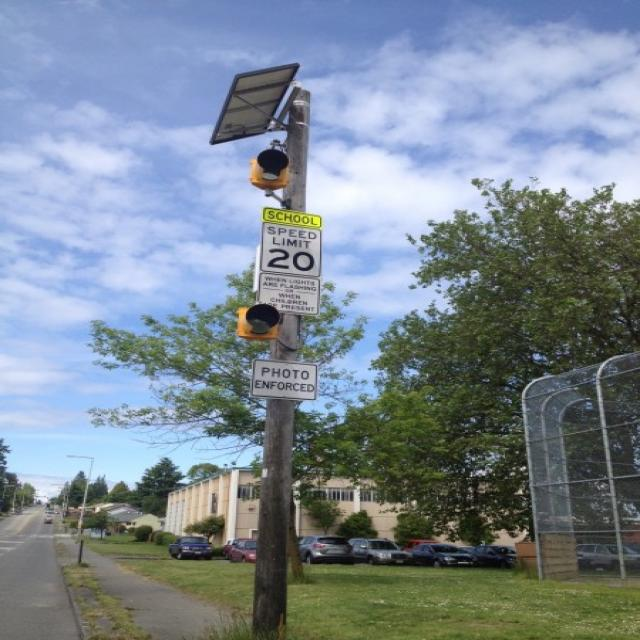speedLimit20: (263, 215, 322, 277)
